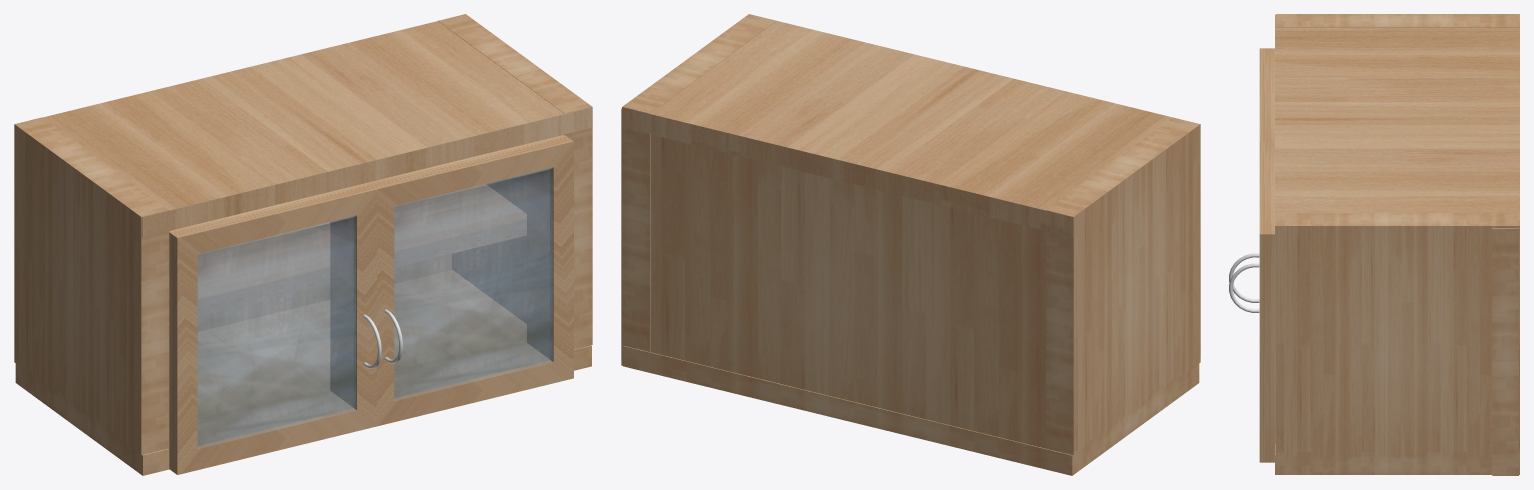
The model's file is Lab Cabinet Windowed.fbx.
3 views of the same model, side by side, from view 1: azimuth 30°, elevation 25°; view 2: azimuth 150°, elevation 25°; view 3: azimuth 270°, elevation 25° (orthographic). The views are drawn at different scales.
Parts seen in each view (by area): view 1: Box004, Box001, Box009, Box010, Box007, Box008, Box003, Box006, Box002, Box005; view 2: Box005, Box004, Box001, Box003, Box002; view 3: Box002, Box004, Box005, Box008, Box003, Box001, Box007, Torus002, Torus001.
Boxes of the visible parts, x1,y1,x2,y2 form: Box004: (43,21,591,237); Box001: (14,117,169,454); Box009: (197,216,356,448); Box010: (394,168,552,400); Box007: (169,182,376,474); Box008: (368,135,573,426); Box003: (15,270,591,475); Box006: (198,184,526,315); Box002: (438,14,592,349); Box005: (198,254,451,331); Box005: (621,108,1072,455); Box004: (623,21,1171,237); Box001: (1045,117,1200,455); Box003: (623,345,1199,475); Box002: (622,14,776,351); Box002: (1275,213,1519,455); Box004: (1275,15,1519,245); Box005: (1492,228,1518,475); Box008: (1259,142,1275,462); Box003: (1275,443,1519,474); Box001: (1275,14,1519,27); Box007: (1259,48,1274,141); Torus002: (1229,263,1259,312); Torus001: (1229,253,1259,302).
Size of the model in its own units: 72.86 by 39.88 by 42.16.
Materials: 2 (2 with a texture image).
